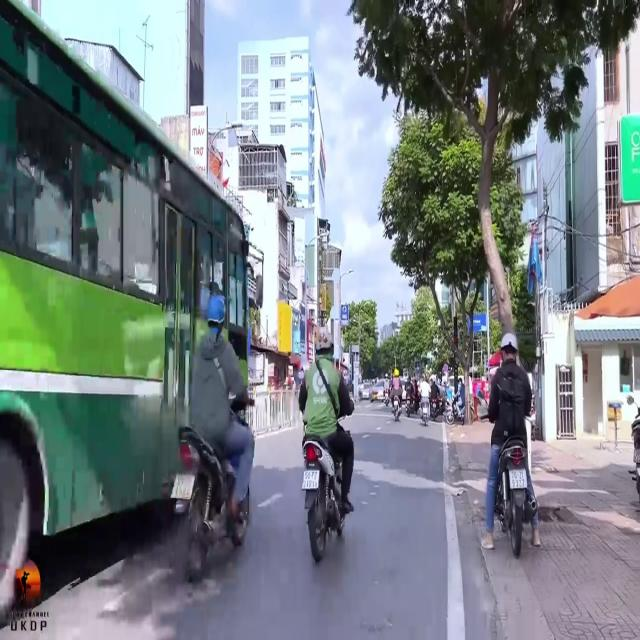bien_trang: (506, 468, 528, 493), (300, 469, 320, 492)
